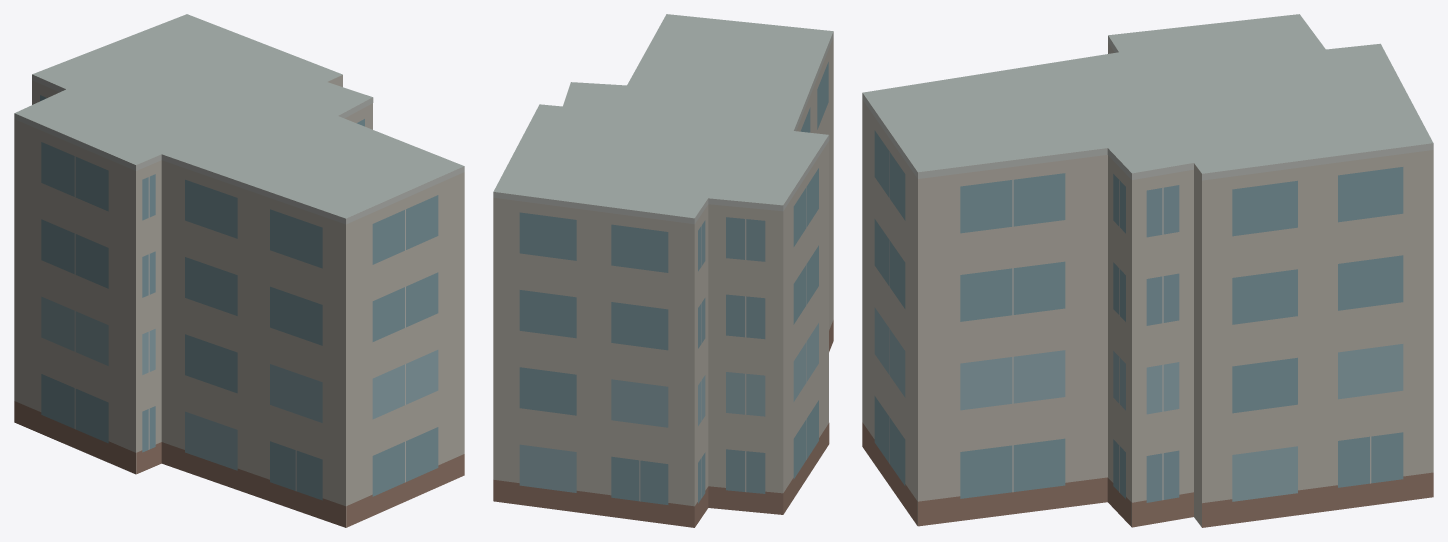
Rendered from survey-upis-32643737.glb.
3 views of the same model, side by side, from view 1: azimuth 30°, elevation 25°; view 2: azimuth 150°, elevation 25°; view 3: azimuth 270°, elevation 25° (orthographic). The views are drawn at different scales.
Visible parts, largest first — view 1: survey-upis-32643737.tmp; view 2: survey-upis-32643737.tmp; view 3: survey-upis-32643737.tmp.
Boxes of the visible parts, x1,y1,x2,y2 form: survey-upis-32643737.tmp: (14,14,464,527); survey-upis-32643737.tmp: (493,14,833,527); survey-upis-32643737.tmp: (862,14,1433,527).
Size of the model in its own units: 12.4 by 12.8 by 18.72.
